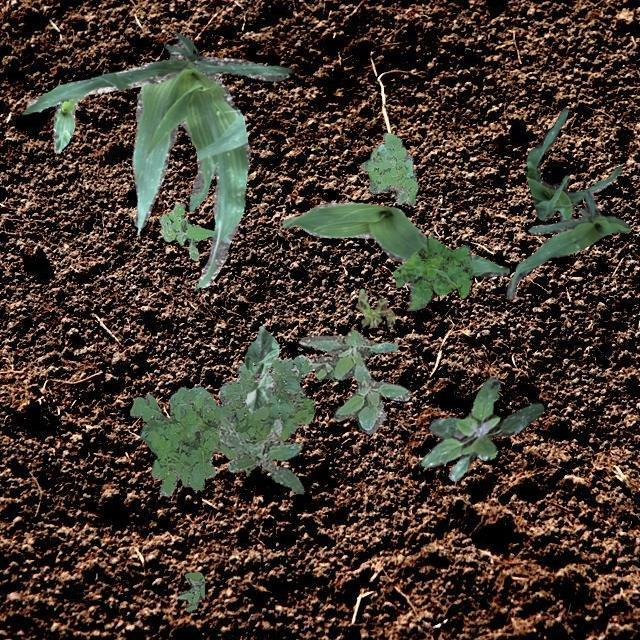crop: (21, 32, 289, 286), (282, 202, 508, 276), (506, 190, 628, 298), (524, 106, 620, 220), (244, 326, 278, 412), (52, 98, 78, 152)
weed: (128, 354, 314, 496), (420, 376, 542, 481), (298, 328, 409, 432), (218, 416, 302, 492), (392, 233, 472, 310), (359, 132, 416, 204), (158, 202, 212, 260), (354, 288, 394, 326), (176, 570, 204, 610)
